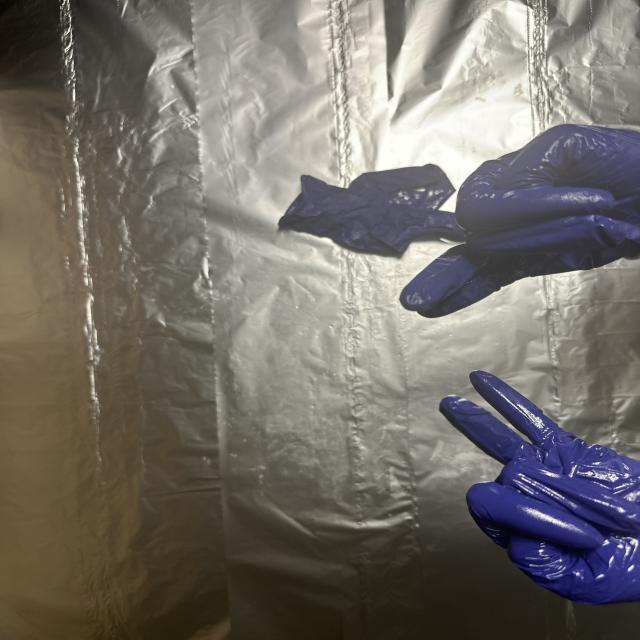gloves_contaminated: (440, 371, 640, 604), (401, 125, 640, 318)
